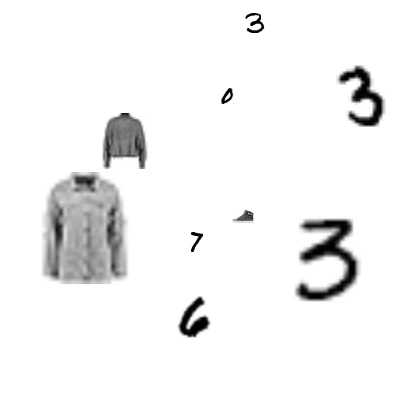0: (216, 85, 238, 107)
3: (272, 200, 384, 312), (322, 54, 406, 138), (241, 9, 269, 37)
6: (164, 291, 220, 347)
7: (182, 225, 210, 253)
Coat: (27, 172, 139, 284)
Pullover: (97, 113, 153, 169)
Sneaker: (232, 205, 254, 227)
